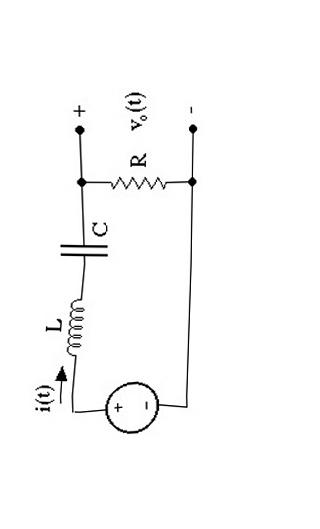Battery: (93, 372, 165, 448)
